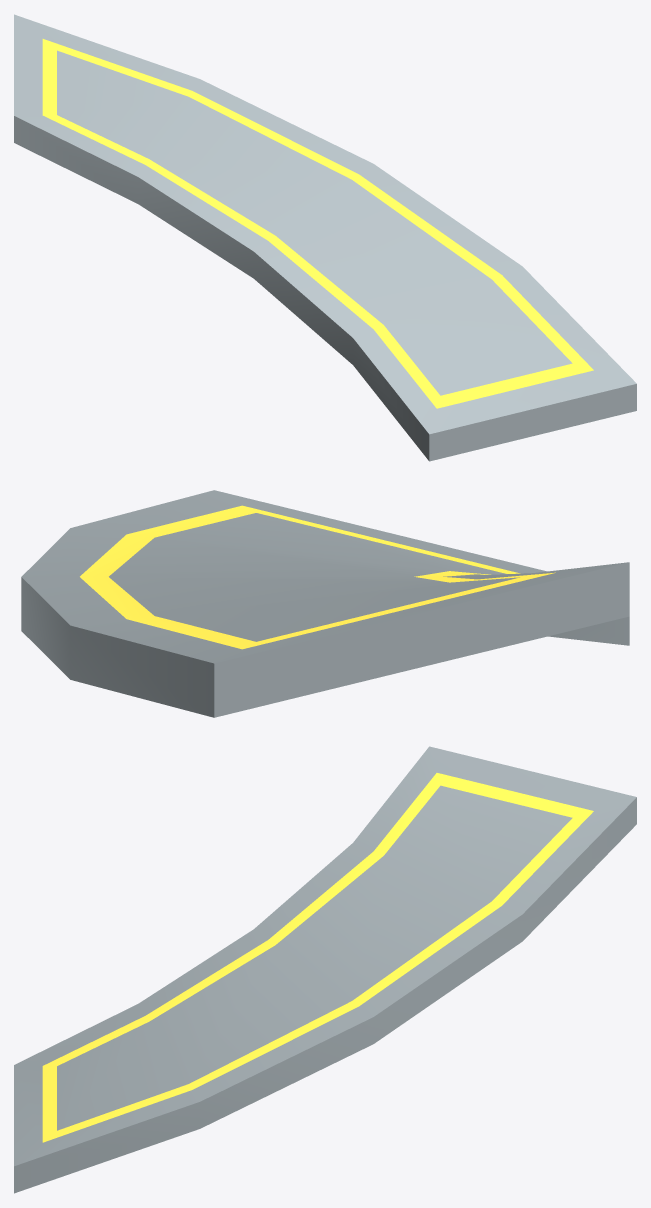
File: SM_PlatformUpwards60Degree_v0.fbx
3 views of the same model, one above another, from view 1: azimuth 30°, elevation 25°; view 2: azimuth 150°, elevation 25°; view 3: azimuth 270°, elevation 25° (orthographic). The views are drawn at different scales.
Visible parts, largest first — view 1: SM_PlatformUpwards60Degree_v0; view 2: SM_PlatformUpwards60Degree_v0; view 3: SM_PlatformUpwards60Degree_v0.
Boxes of the visible parts, bbox=[...] form: SM_PlatformUpwards60Degree_v0: bbox=[14, 14, 636, 461]; SM_PlatformUpwards60Degree_v0: bbox=[21, 490, 629, 717]; SM_PlatformUpwards60Degree_v0: bbox=[14, 746, 636, 1193].
Size of the model in its own units: 2 by 1.12 by 2.6.
